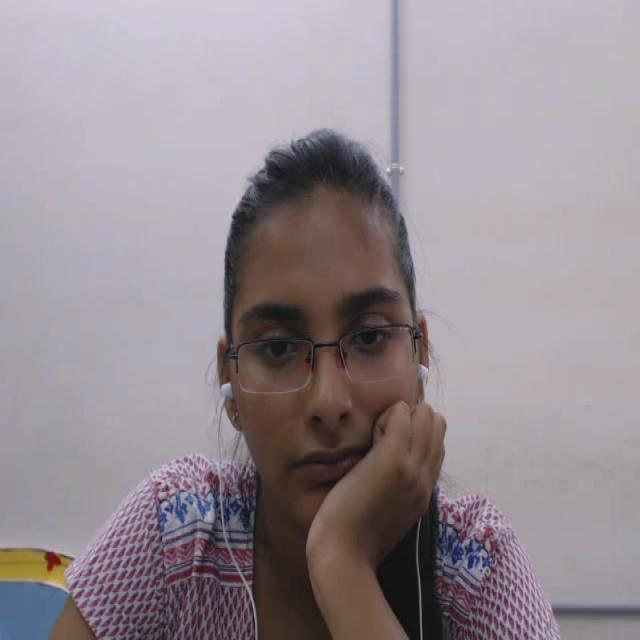Bored: (204, 107, 485, 566)
